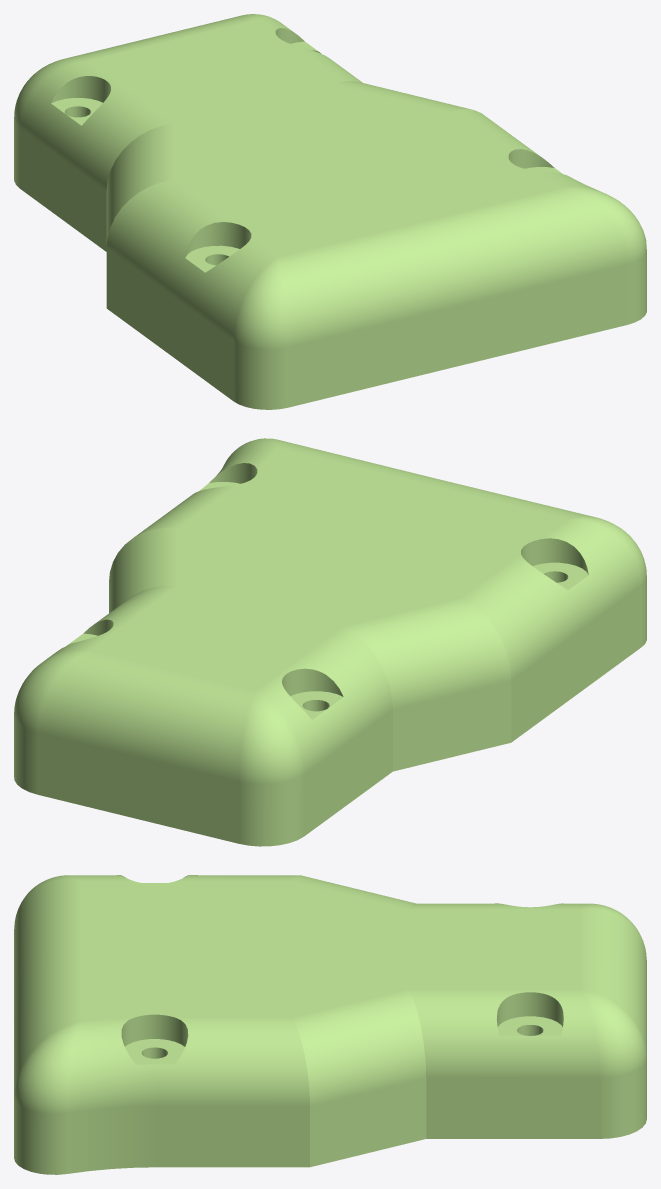
The model's file is Main_CaseOutside_3.dae.
3 views of the same model, one above another, from view 1: azimuth 30°, elevation 25°; view 2: azimuth 150°, elevation 25°; view 3: azimuth 270°, elevation 25° (orthographic). The views are drawn at different scales.
Visible parts, largest first — view 1: Main_CaseOutside_3; view 2: Main_CaseOutside_3; view 3: Main_CaseOutside_3.
Boxes of the visible parts, box(x1,y1,x2,y2) form: Main_CaseOutside_3: box(14, 14, 646, 409); Main_CaseOutside_3: box(14, 438, 646, 846); Main_CaseOutside_3: box(14, 875, 646, 1174).
Bounding box in the file's own units: 0.0353 × 0.0472 × 0.01.
